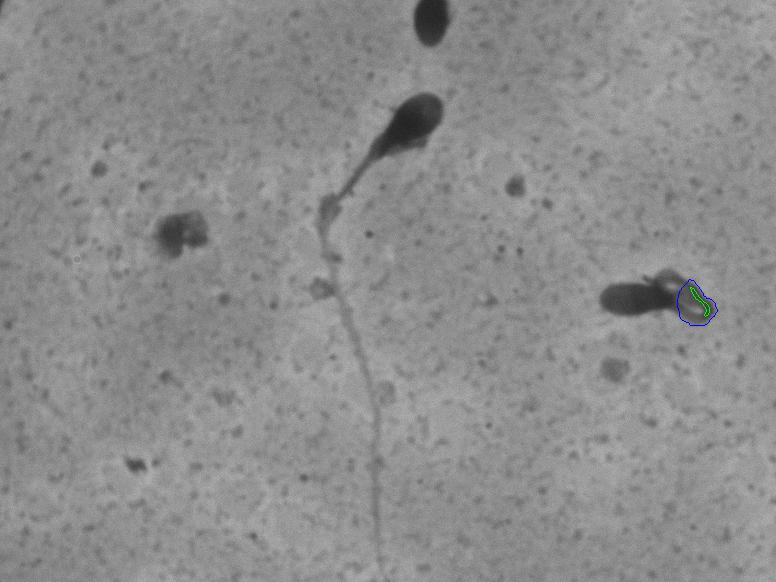Abnormal: (257, 61, 513, 539), (582, 237, 742, 371)
